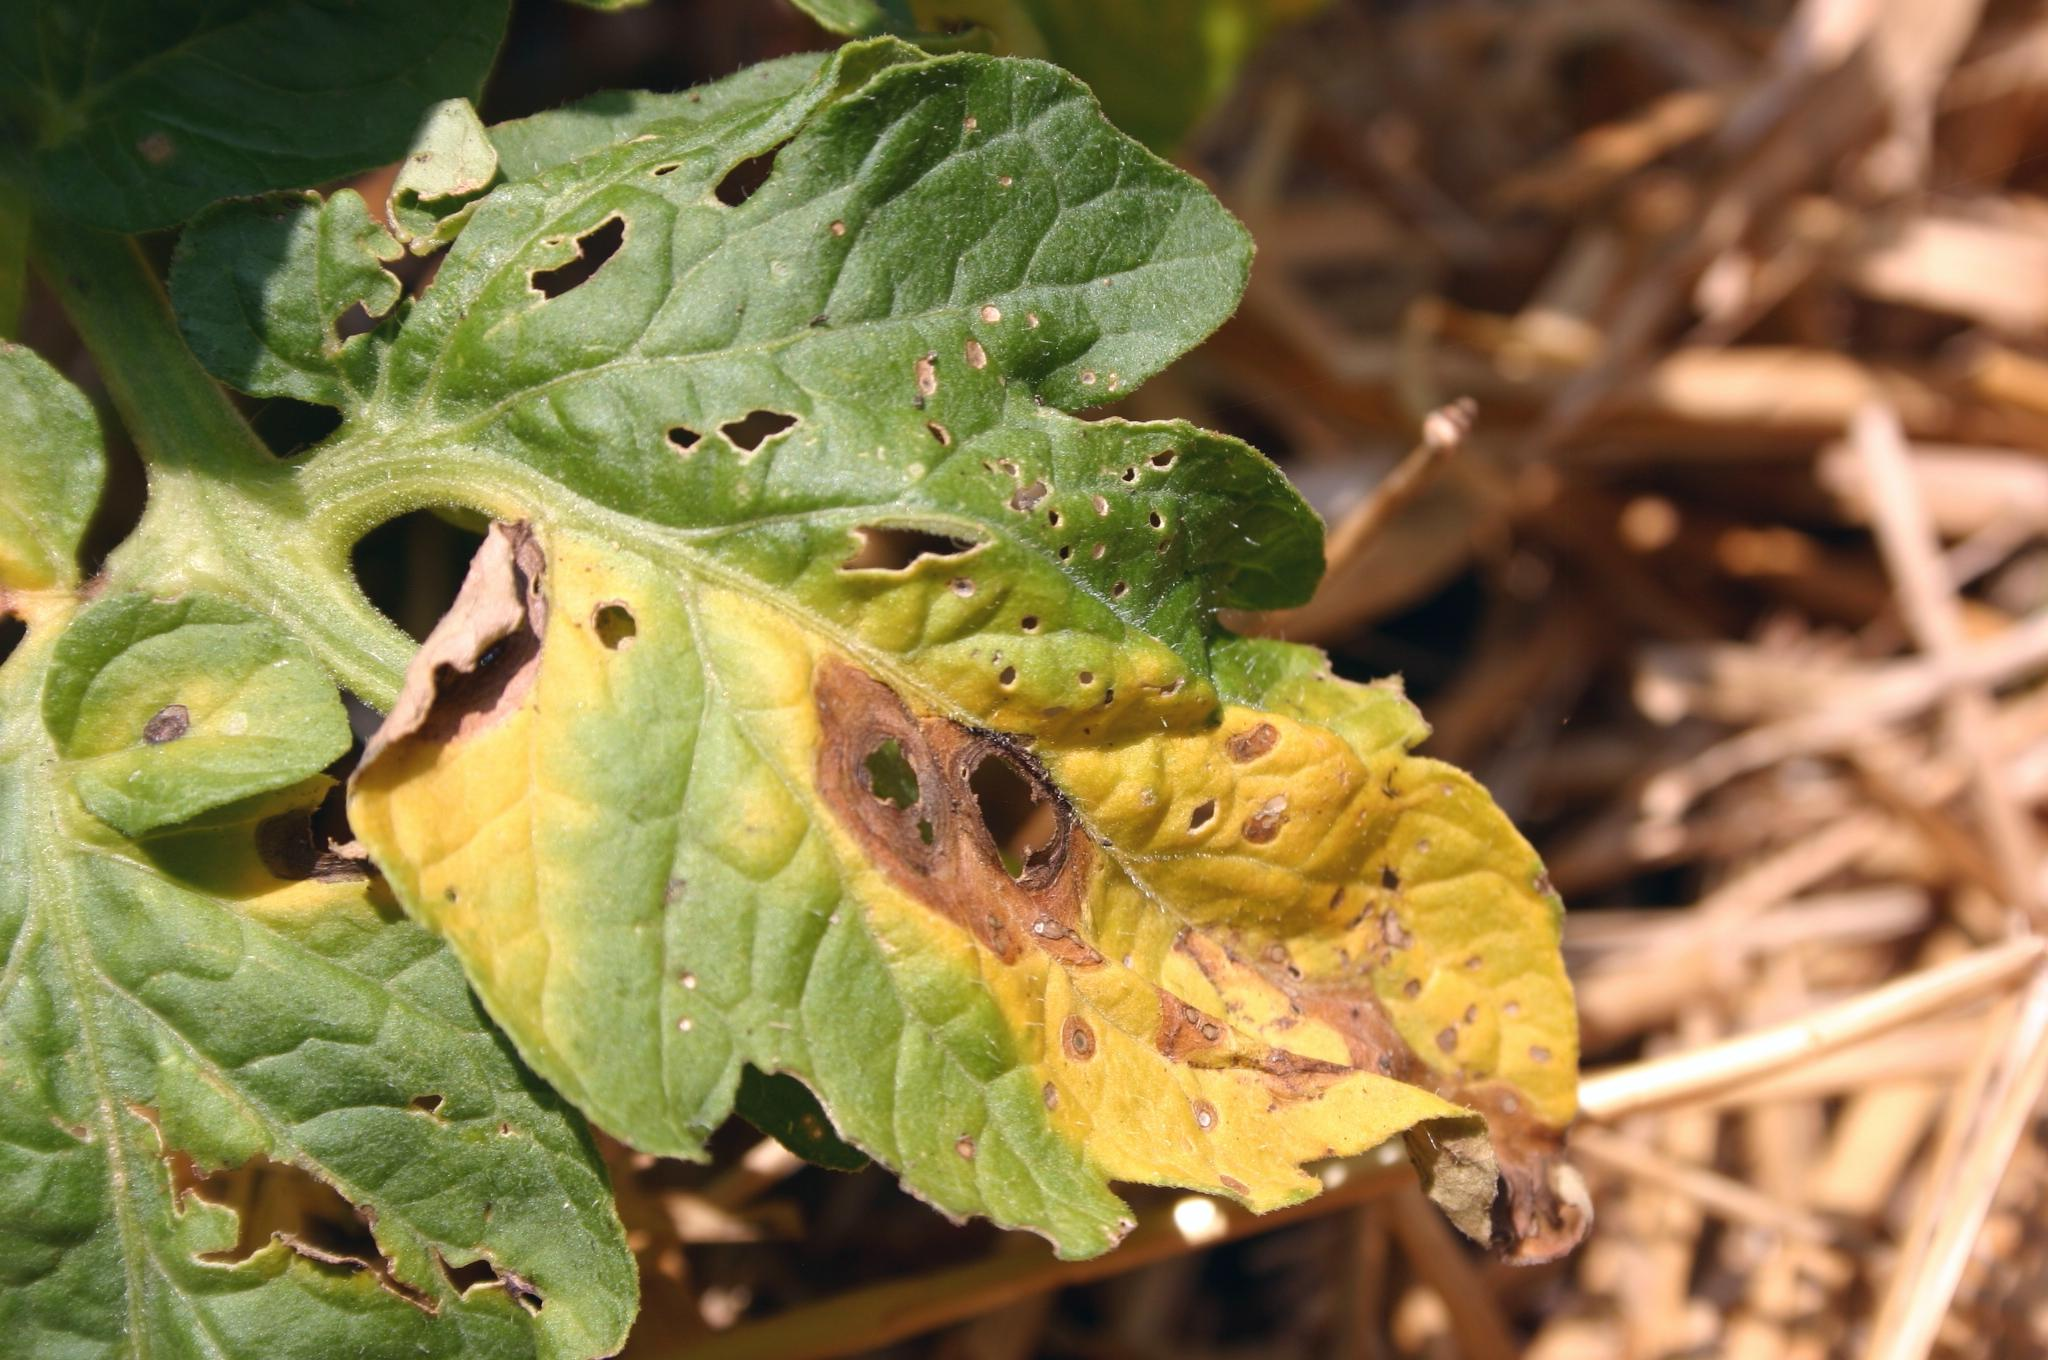Tomato Early blight leaf: (459, 189, 1656, 1250)
